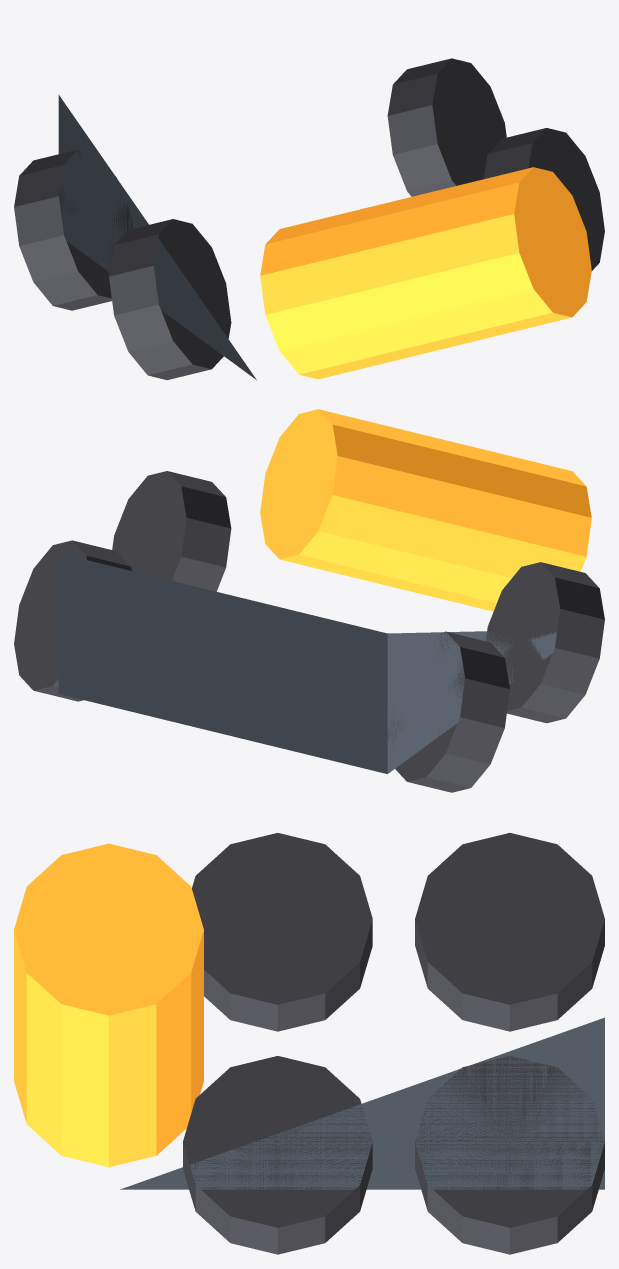
Rendered from station1_combat_robot.glb.
3 renders of one model, top to bottom at view 1: azimuth 30°, elevation 25°; view 2: azimuth 150°, elevation 25°; view 3: azimuth 270°, elevation 25°, orthographic. The views are drawn at different scales.
Visible parts, largest first — view 1: StationArtifact; view 2: StationArtifact; view 3: StationArtifact.
Part boxes in pixels (bbox=[...]): StationArtifact: bbox=[14, 58, 604, 379]; StationArtifact: bbox=[14, 409, 604, 792]; StationArtifact: bbox=[14, 833, 604, 1254].
Size of the model in its own units: 0.56 by 0.22 by 0.56.
